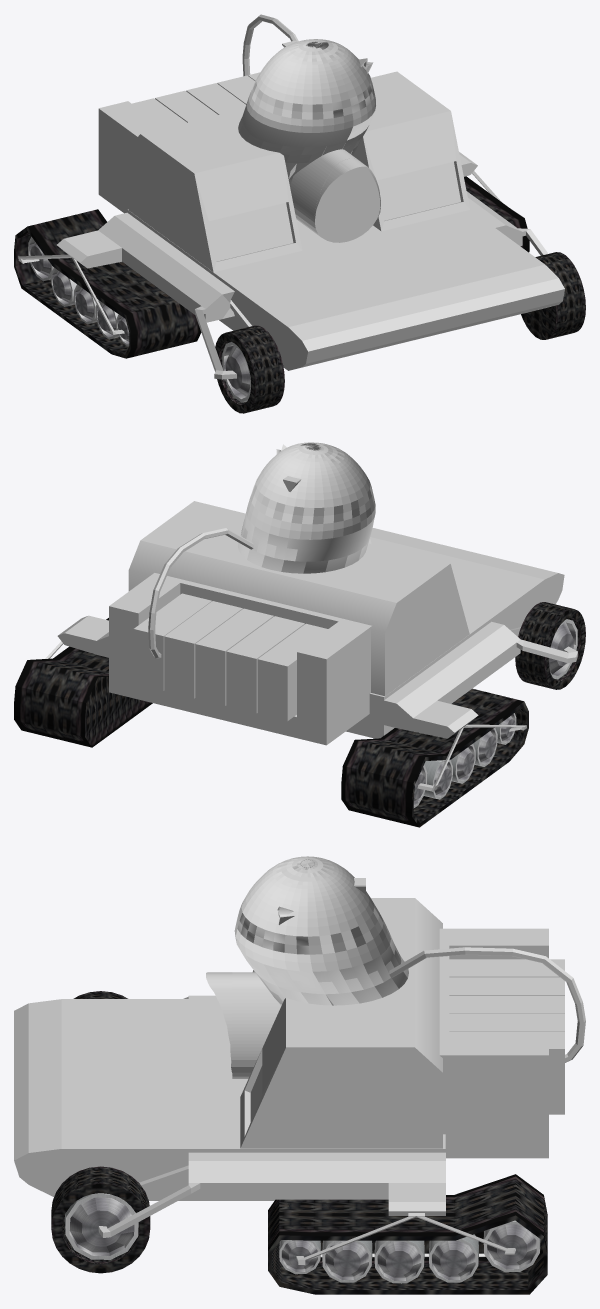
Rendered from tank1.FBX.
The picture shows the model from 3 angles, top to bottom: view 1: azimuth 30°, elevation 25°; view 2: azimuth 150°, elevation 25°; view 3: azimuth 270°, elevation 25°; orthographic projection. The views are drawn at different scales.
Visible parts, largest first — view 1: Box004, Cylinder261, Object001, Circle001, Box007, Cylinder251, Box011, Box010, Box012, Cylinder257, Cylinder258, Box009 (+2 smaller); view 2: Box004, Object001, Box007, Cylinder261, Circle001, Box012, Box010, Box011, Box009, Box008, Cylinder251, Cylinder257 (+2 smaller); view 3: Box004, Cylinder261, Object001, Box007, Circle001, Cylinder251, Box009, Box010, Box011, Box008, Cylinder256, Box012 (+4 smaller).
Boxes of the visible parts, <box> form: Box004: <box>18,14,564,379</box>; Cylinder261: <box>238,39,375,186</box>; Object001: <box>14,176,529,358</box>; Circle001: <box>215,252,585,413</box>; Box007: <box>98,101,164,213</box>; Cylinder251: <box>222,342,250,402</box>; Box011: <box>155,90,217,122</box>; Box010: <box>186,83,245,114</box>; Box012: <box>132,98,186,127</box>; Cylinder257: <box>51,267,76,306</box>; Cylinder258: <box>73,284,98,324</box>; Box009: <box>217,75,254,104</box>; Box004: <box>45,476,577,791</box>; Object001: <box>14,618,528,827</box>; Box007: <box>109,573,371,745</box>; Cylinder261: <box>238,442,375,573</box>; Circle001: <box>515,602,585,689</box>; Box012: <box>257,623,327,721</box>; Box010: <box>195,608,273,705</box>; Box011: <box>226,616,304,713</box>; Box009: <box>164,601,242,698</box>; Box008: <box>133,593,211,690</box>; Cylinder251: <box>549,619,577,679</box>; Cylinder257: <box>423,759,452,799</box>; Box004: <box>14,878,585,1264</box>; Cylinder261: <box>234,856,408,1005</box>; Object001: <box>268,1174,547,1294</box>; Box007: <box>439,928,548,1158</box>; Circle001: <box>51,991,150,1273</box>; Cylinder251: <box>64,1193,138,1259</box>; Box009: <box>449,1013,564,1031</box>; Box010: <box>449,995,564,1013</box>; Box011: <box>449,977,564,995</box>; Box008: <box>449,1031,564,1114</box>; Cylinder256: <box>483,1220,540,1272</box>; Box012: <box>449,959,564,977</box>.
Bounding box in the file's own units: 69.56 × 42.1 × 69.29.
Materials: 3 (3 with a texture image).
